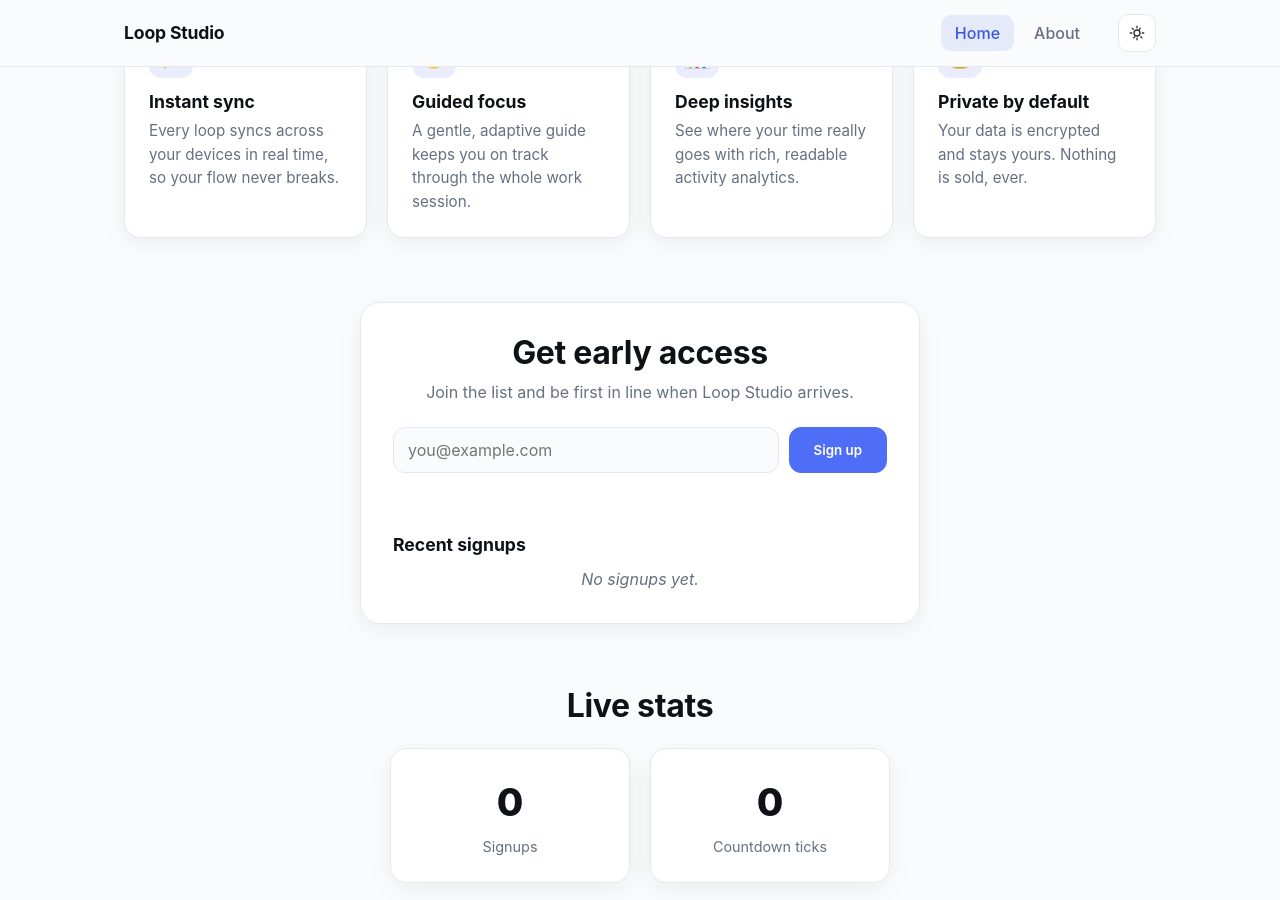
Scenario: App › rejects an invalid email and does not add it
(page scrolled)
Step 1. Type "not-an-email" into the field named "email" → {"x": 586, "y": 450}, box [393,427,778,473]
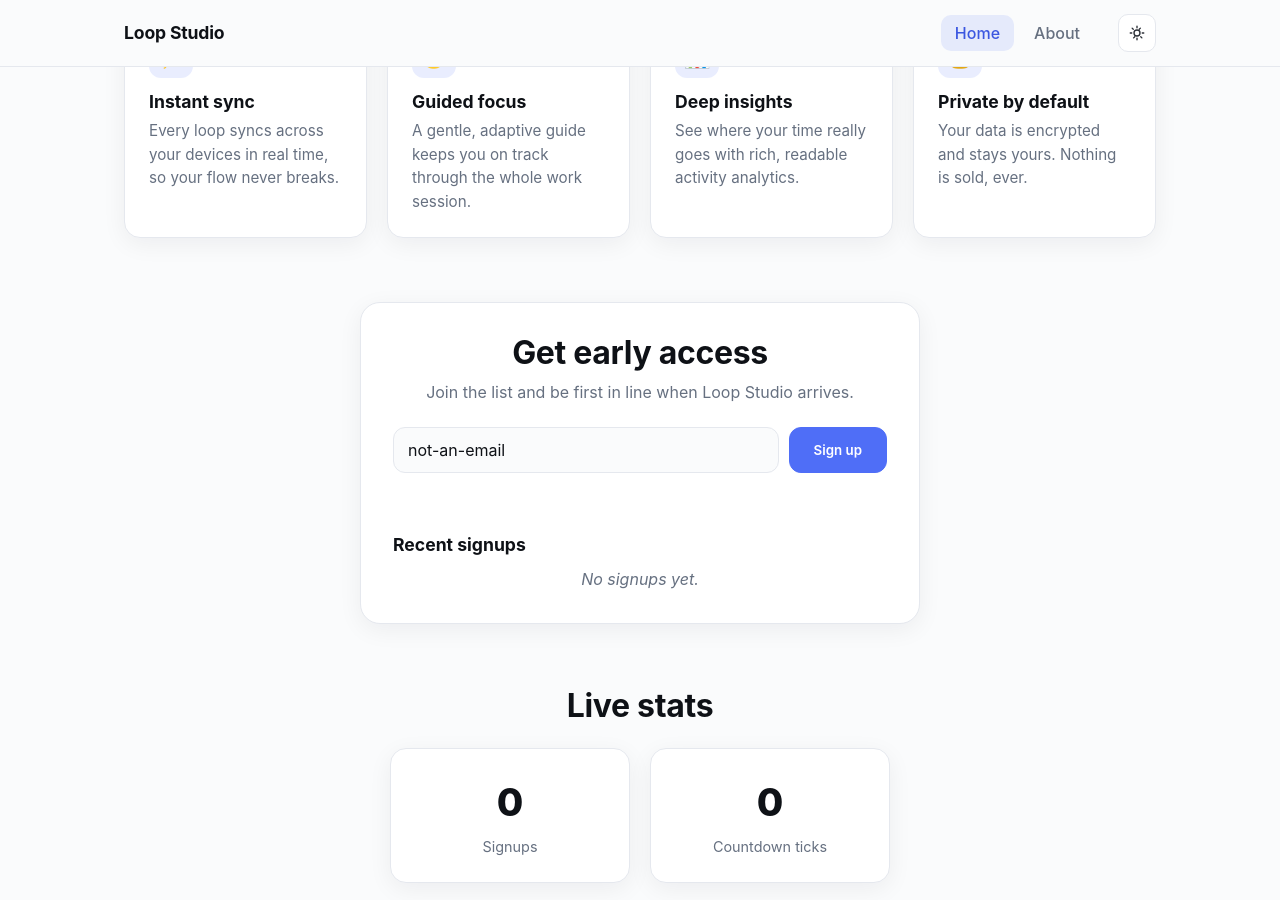
Step 2. Submit the form named "get early access", box [393,427,887,473]
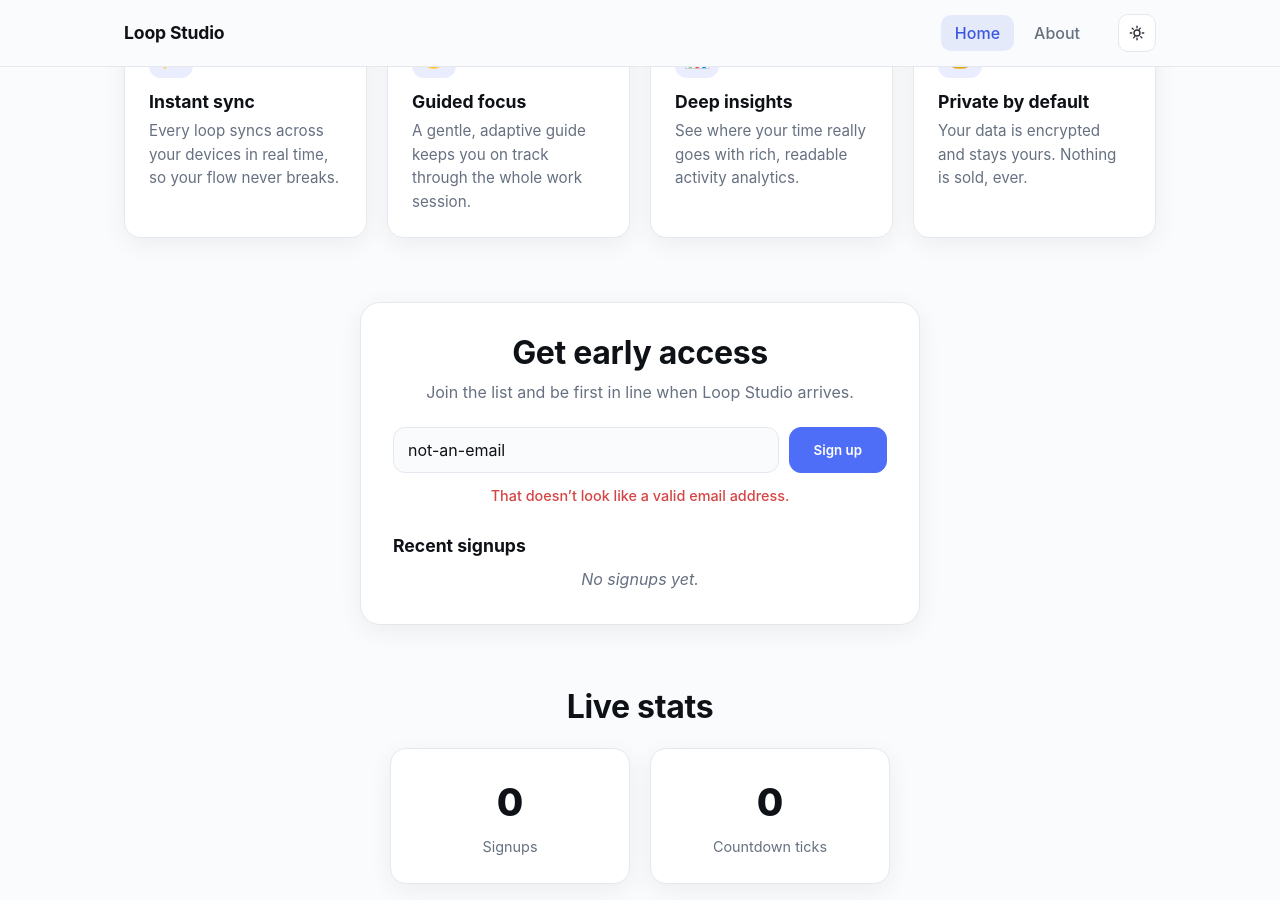
Expected: the text with id "stat-signups" reads "0", [497,779,523,825]
Now the text with id "signup-error" shows "valid", box [491,487,789,504]
